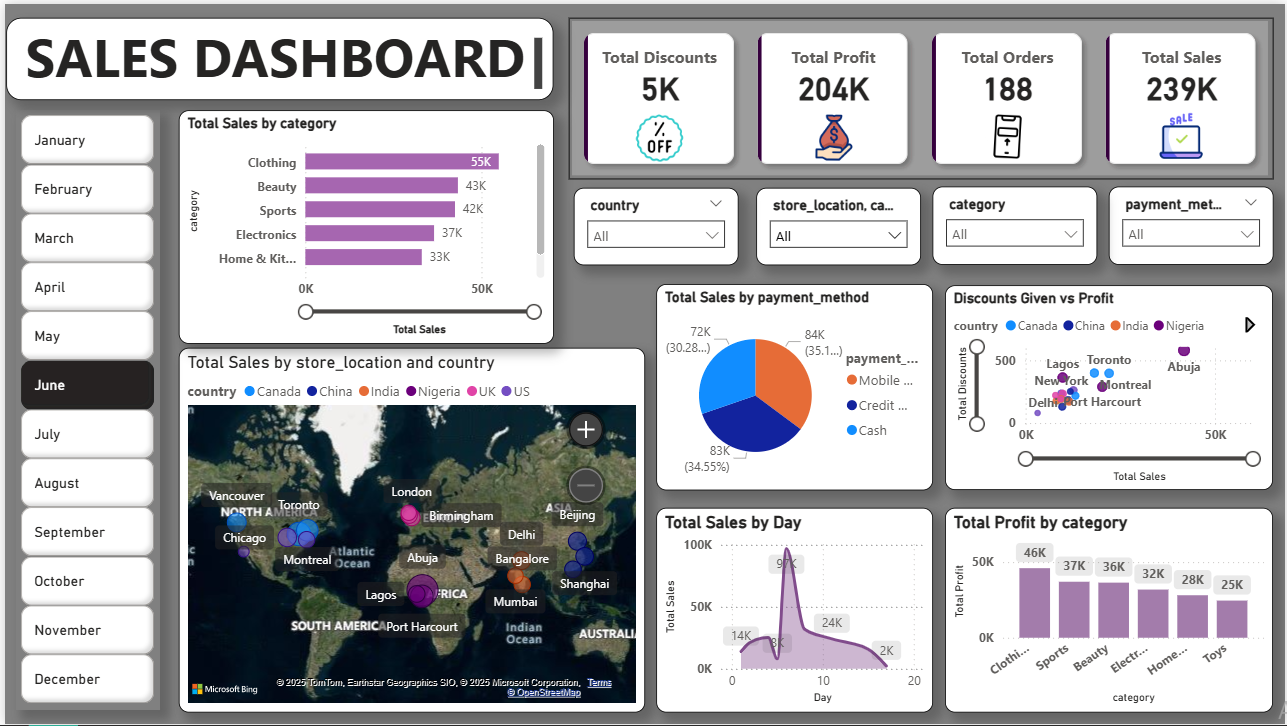

The dashboard page shown, as its layout file describes it:
{"tool":"powerbi","page":{"name":"Page 1","canvas":[1280,720],"ordinal":0},"visuals":[{"type":"cardVisual","fields":{"Data":["Sales_Data.Total Discounts","Sales_Data.Total Profit","Sales_Data.Total Orders","Sales_Data.Total Sales"]},"box":[563.8,13.8,705,161.2],"z":0},{"type":"textbox","box":[1.2,13.8,547.5,82.5],"z":1000},{"type":"slicer","fields":{"Values":["Sales_Data.store_location","Sales_Data.category"]},"box":[751.2,183.8,165,77.5],"z":4000},{"type":"map","fields":{"Category":["Sales_Data.store_location"],"Series":["Sales_Data.country"],"Size":["Sales_Data.Total Sales"]},"box":[173.3,343.3,466.7,365],"z":6000},{"type":"advancedSlicerVisual","fields":{"Values":["Sales_Data.date.Variation.Date Hierarchy.Month"]},"box":[11.2,106.2,143.8,600],"z":7000},{"type":"slicer","fields":{"Values":["Sales_Data.country"]},"box":[568.8,183.8,165,77.5],"z":7002},{"type":"slicer","fields":{"Values":["Sales_Data.payment_method"]},"box":[1103.8,182.5,165,78.8],"z":7003},{"type":"slicer","fields":{"Values":["Sales_Data.category"]},"box":[927.5,182.5,165,78.8],"z":7004},{"type":"pieChart","fields":{"Category":["Sales_Data.payment_method"],"Y":["Sales_Data.Total Sales"]},"box":[651.7,280,276.7,206.7],"z":7005},{"type":"scatterChart","title":"Discounts Given vs Profit ","fields":{"X":["Sales_Data.Total Sales"],"Y":["Sales_Data.Total Discounts"],"Category":["Sales_Data.store_location"],"Series":["Sales_Data.country"],"Size":["Sales_Data.Total Orders"]},"box":[940,281.7,328.3,205],"z":7006},{"type":"areaChart","fields":{"Y":["Sales_Data.Total Sales"],"Category":["Sales_Data.date.Variation.Date Hierarchy.Month","Sales_Data.date.Variation.Date Hierarchy.Day"]},"box":[651.7,503.3,276.7,205],"z":7007},{"type":"columnChart","fields":{"Y":["Sales_Data.Total Profit"],"Category":["Sales_Data.category"]},"box":[940,503.3,328.3,205],"z":7008},{"type":"barChart","fields":{"Y":["Sales_Data.Total Sales"],"Category":["Sales_Data.category"]},"box":[173.8,106.2,375,233.8],"z":7009}]}

Visuals, with their boxes in screenshot pixels (x1, y1, x2, y2), scaled from the page's 1280x720 canvas onto the 1287x726 screenshot:
cardVisual - Sales_Data.Total Discounts x Sales_Data.Total Profit: (left=567, top=14, right=1276, bottom=176)
textbox: (left=1, top=14, right=552, bottom=97)
slicer - Sales_Data.store_location x Sales_Data.category: (left=755, top=185, right=921, bottom=263)
map - Sales_Data.store_location x Sales_Data.country: (left=174, top=346, right=644, bottom=714)
advancedSlicerVisual - Sales_Data.date.Variation.Date Hierarchy.Month: (left=11, top=107, right=156, bottom=712)
slicer - Sales_Data.country: (left=572, top=185, right=738, bottom=263)
slicer - Sales_Data.payment_method: (left=1110, top=184, right=1276, bottom=263)
slicer - Sales_Data.category: (left=933, top=184, right=1098, bottom=263)
pieChart - Sales_Data.payment_method x Sales_Data.Total Sales: (left=655, top=282, right=933, bottom=491)
"Discounts Given vs Profit " scatterChart: (left=945, top=284, right=1275, bottom=491)
areaChart - Sales_Data.Total Sales x Sales_Data.date.Variation.Date Hierarchy.Month: (left=655, top=507, right=933, bottom=714)
columnChart - Sales_Data.Total Profit x Sales_Data.category: (left=945, top=507, right=1275, bottom=714)
barChart - Sales_Data.Total Sales x Sales_Data.category: (left=175, top=107, right=552, bottom=343)
